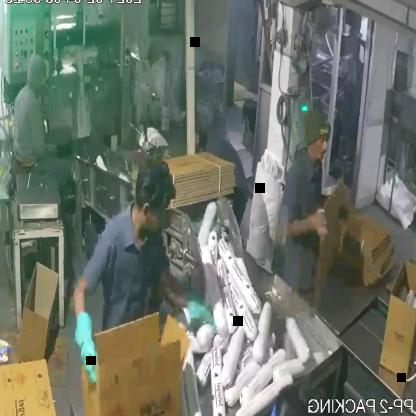glove: (72, 308, 113, 384), (176, 284, 213, 339)
no_glove: (282, 190, 338, 252)
